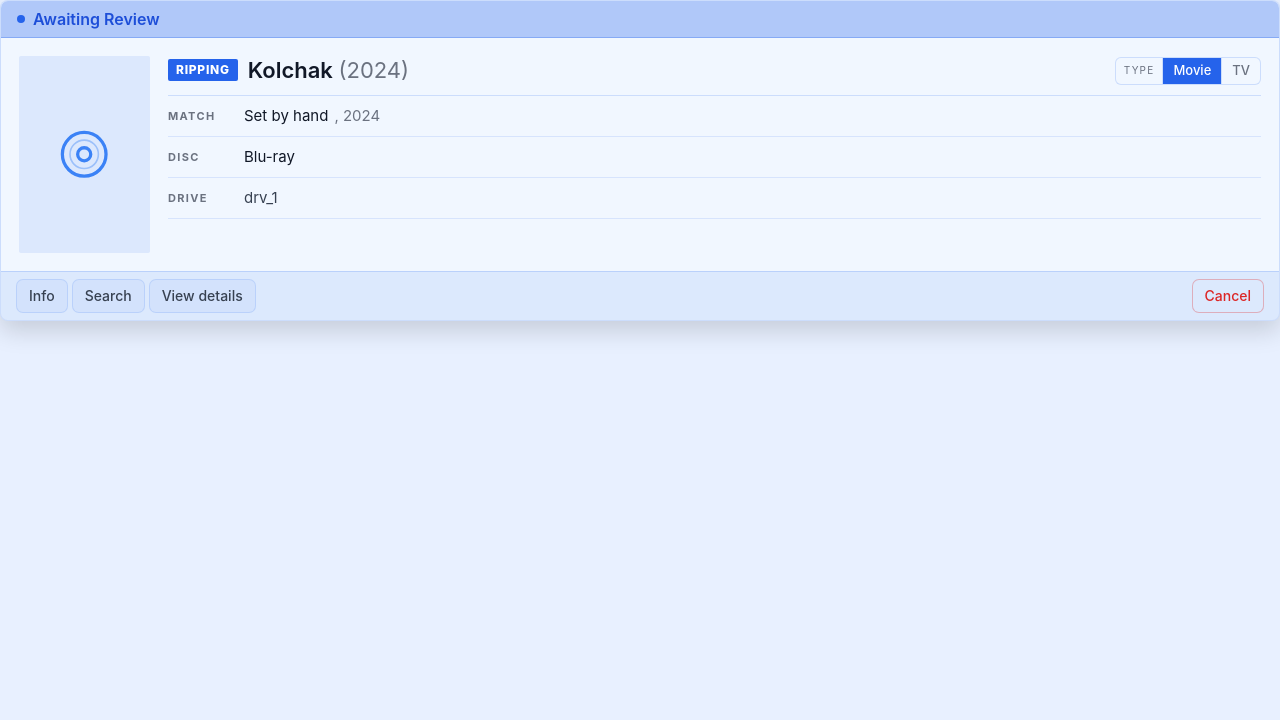
it: DiscReviewWidget › tracks table › renders v3 track rows (index / title / source)
The width and height of the screenshot is (1280, 720).
The tracks table now lives at the bottom of the Info tab — open it first.
Click the button "Info".
click(42, 296)  # box top-left (17, 280), bottom-right (67, 312)
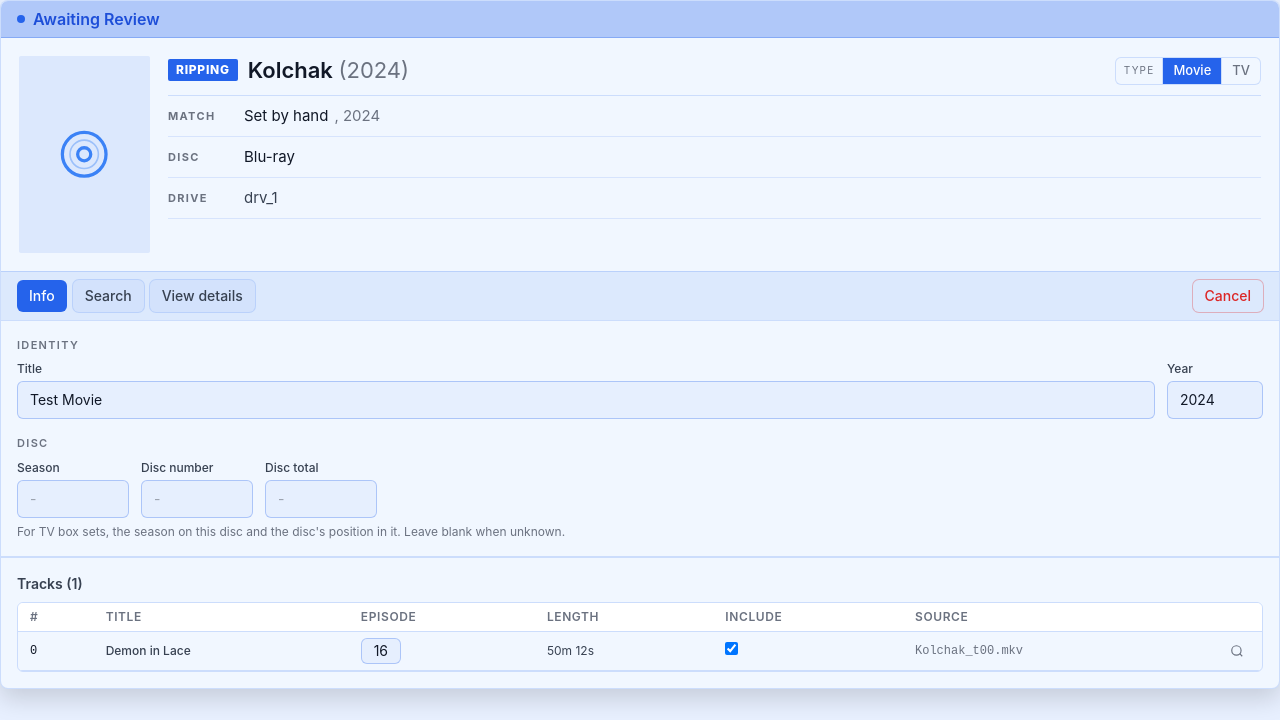
Check: the text "Demon in Lace" is shown, box top-left (106, 642), bottom-right (191, 658)
Check: the text "Kolchak_t00.mkv" is shown, box top-left (903, 631), bottom-right (1212, 670)
